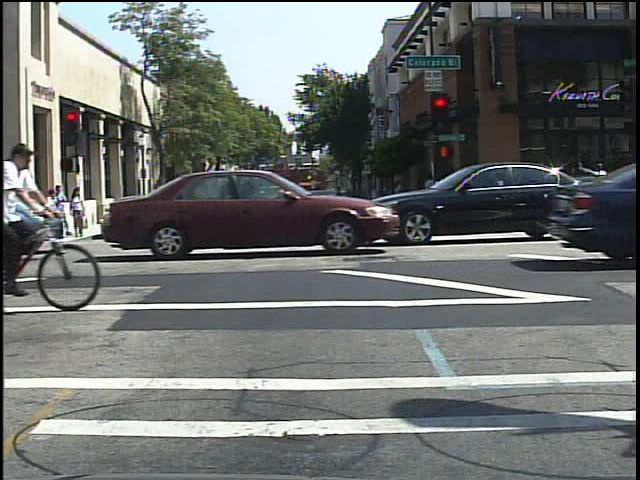person: (592, 158, 618, 222)
